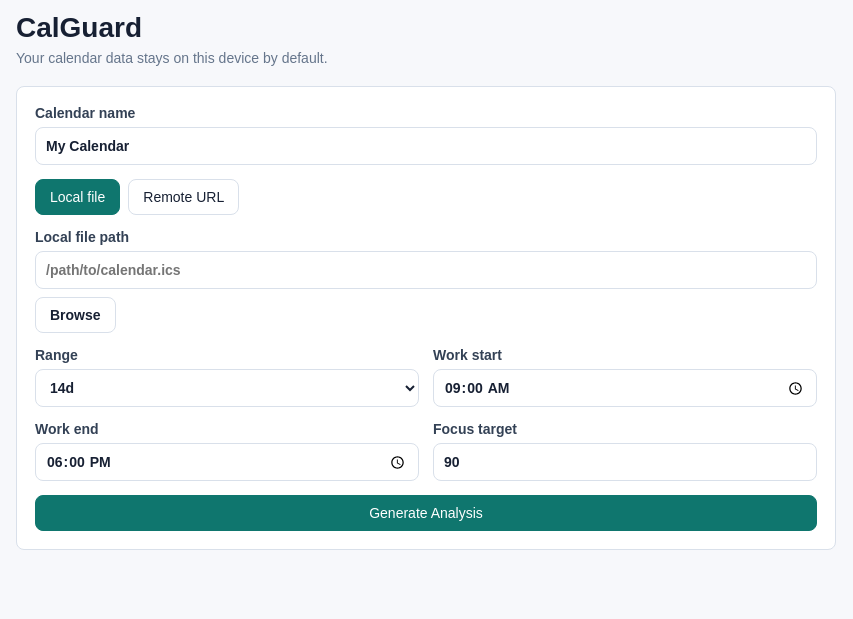
desktop UI › validates onboarding local file input
Click the button "Generate Analysis" at (426, 513), box x1=35 y1=495 x2=817 y2=531
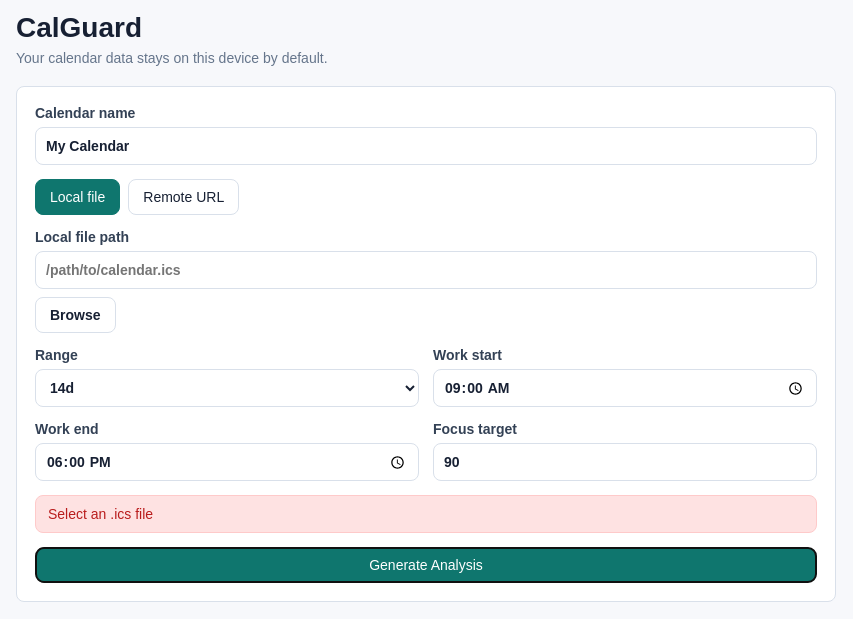
Expected: the text "Select an .ics file" is shown, x1=35 y1=495 x2=817 y2=533
